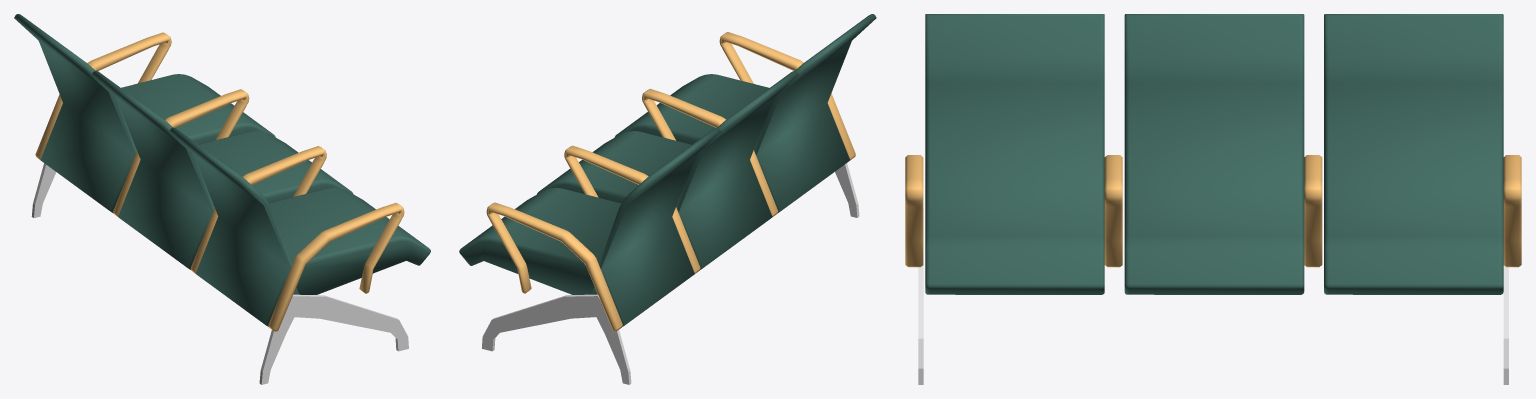
Rendered from CityHallChair.fbx.
3 views of the same model, side by side, from view 1: azimuth 30°, elevation 25°; view 2: azimuth 150°, elevation 25°; view 3: azimuth 270°, elevation 25° (orthographic). The views are drawn at different scales.
Parts seen in each view (by area): view 1: Seat, handrail, leg; view 2: Seat, handrail, leg; view 3: Seat, handrail, leg.
Boxes of the visible parts, bbox=[...] form: Seat: bbox=[14, 14, 430, 326]; handrail: bbox=[35, 32, 404, 331]; leg: bbox=[31, 163, 408, 384]; Seat: bbox=[459, 14, 876, 326]; handrail: bbox=[486, 32, 855, 331]; leg: bbox=[482, 163, 859, 384]; Seat: bbox=[925, 14, 1503, 294]; handrail: bbox=[905, 155, 1521, 267]; leg: bbox=[918, 208, 1508, 384].
Size of the model in its own units: 79.82 by 82.4 by 172.
